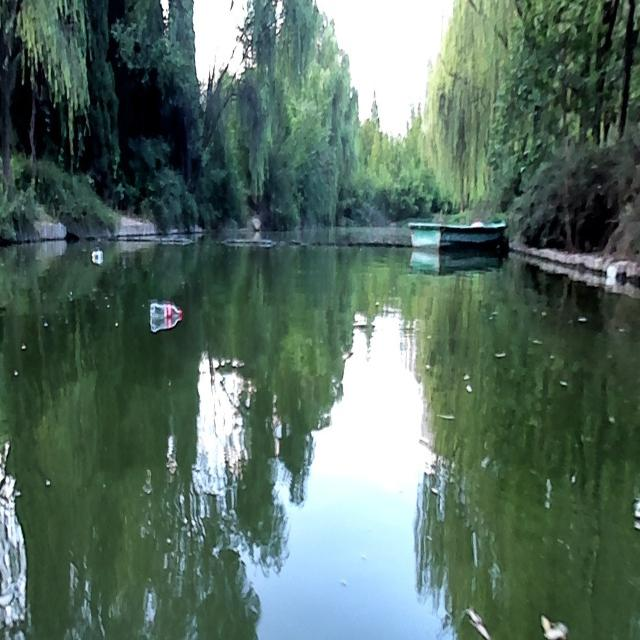bottle: (148, 301, 180, 319), (92, 249, 102, 258)
